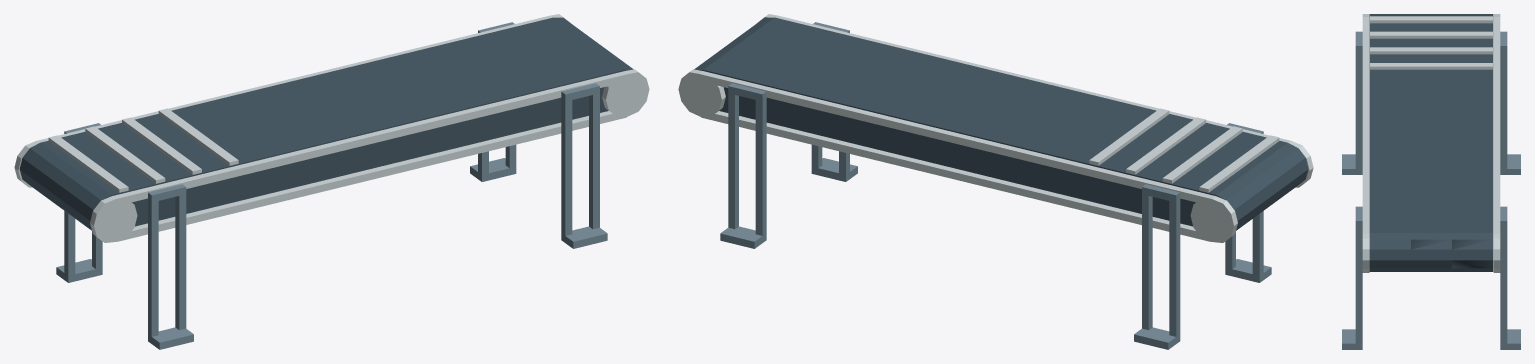
The model's file is Conveyor.fbx.
3 renders of one model, left to right at view 1: azimuth 30°, elevation 25°; view 2: azimuth 150°, elevation 25°; view 3: azimuth 270°, elevation 25°, orthographic. The views are drawn at different scales.
Parts seen in each view (by area): view 1: group1751849987, group1395806188, group1439868329, group1875178703, lines, group1395806188.001, group955717307, group1864052554; view 2: group1751849987, group1395806188.001, group1864052554, group955717307, lines, group1395806188, group1875178703, group1439868329; view 3: group1751849987, lines, group1395806188, group1395806188.001, group1875178703, group1439868329, group1864052554, group955717307.
Boxes of the visible parts, x1,y1,x2,y2 form: group1751849987: (19, 17, 633, 230); group1395806188: (90, 69, 649, 242); group1439868329: (561, 83, 607, 248); group1875178703: (148, 184, 193, 349); lines: (48, 108, 238, 192); group1395806188.001: (14, 14, 569, 187); group955717307: (56, 123, 102, 282); group1864052554: (470, 22, 516, 181); group1751849987: (694, 17, 1308, 230); group1395806188.001: (678, 69, 1237, 242); group1864052554: (720, 83, 766, 248); group955717307: (1134, 184, 1180, 349); lines: (1089, 108, 1279, 192); group1395806188: (758, 14, 1313, 187); group1875178703: (1225, 123, 1271, 282); group1439868329: (811, 22, 857, 181); group1751849987: (1369, 14, 1493, 271); lines: (1370, 16, 1492, 69); group1395806188: (1362, 14, 1369, 272); group1395806188.001: (1493, 14, 1500, 272); group1875178703: (1342, 31, 1362, 174); group1439868329: (1342, 206, 1362, 349); group1864052554: (1500, 206, 1520, 349); group955717307: (1500, 31, 1520, 174).
Bounding box in the file's own units: 242 × 64.46 × 78.
